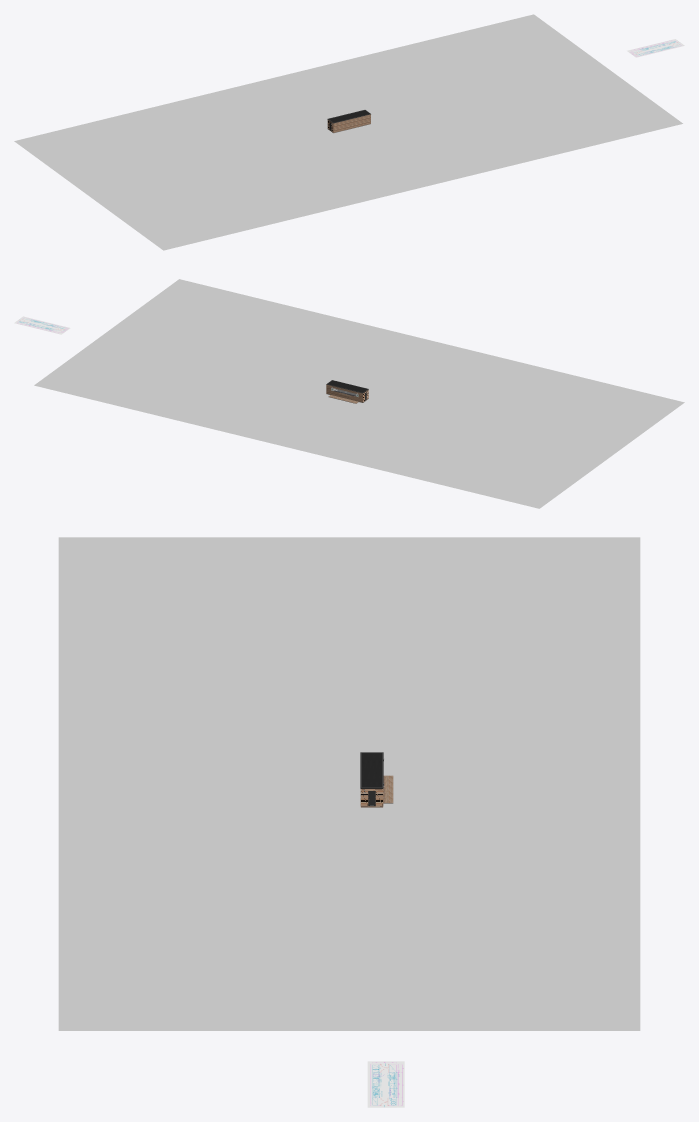
File: mobileRestaurant.fbx
3 renders of one model, top to bottom at view 1: azimuth 30°, elevation 25°; view 2: azimuth 150°, elevation 25°; view 3: azimuth 270°, elevation 25°, orthographic. The views are drawn at different scales.
Parts seen in each view (by area): view 1: FbxMesh (×3); view 2: FbxMesh (×3); view 3: FbxMesh (×2).
Boxes of the visible parts, <box> form: FbxMesh (×3): <box>14,14,684,250</box>; FbxMesh (×3): <box>14,279,684,508</box>; FbxMesh (×2): <box>58,537,640,1107</box>.
Bounding box in the file's own units: 6491 × 106 × 2798.
16 materials, 10 textured.
